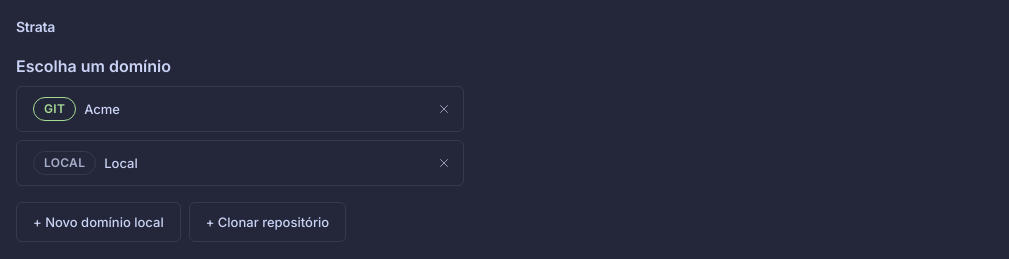
Test case: DomainPicker › ← Domínios clears context and returns to the domain list
This screenshot has width=1009, height=259.
Click the button "Git Acme" at (55, 109), box top-left (16, 86), bottom-right (464, 132)
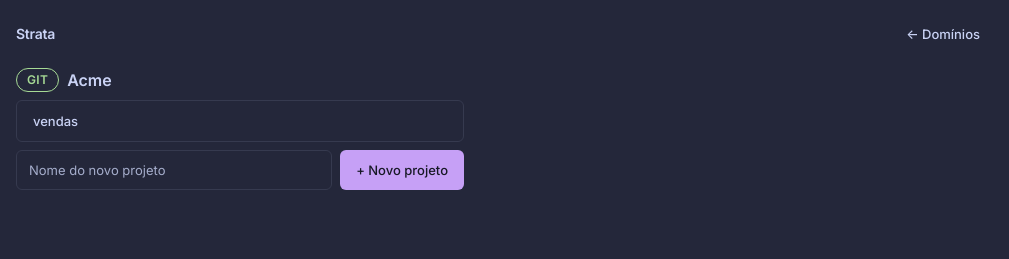
Click the button "← Domínios" at (943, 34), box top-left (894, 16), bottom-right (992, 52)
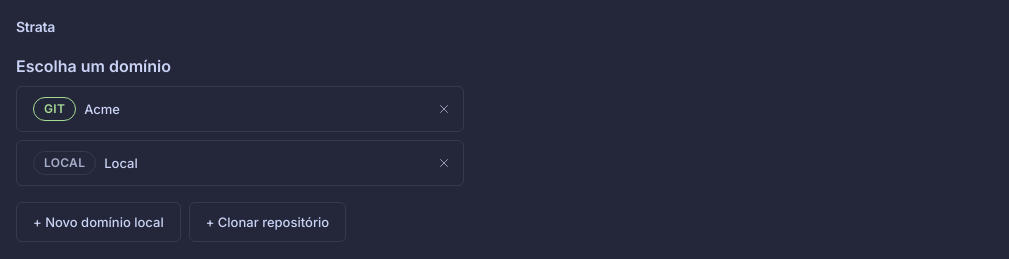
Check: the heading "Escolha um domínio" is shown, box top-left (16, 56), bottom-right (171, 76)
